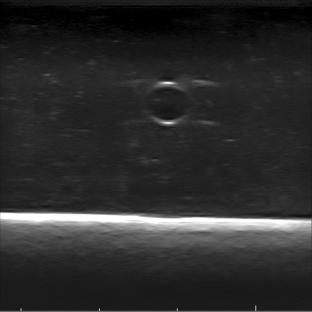vessel: (142, 80, 194, 125)
